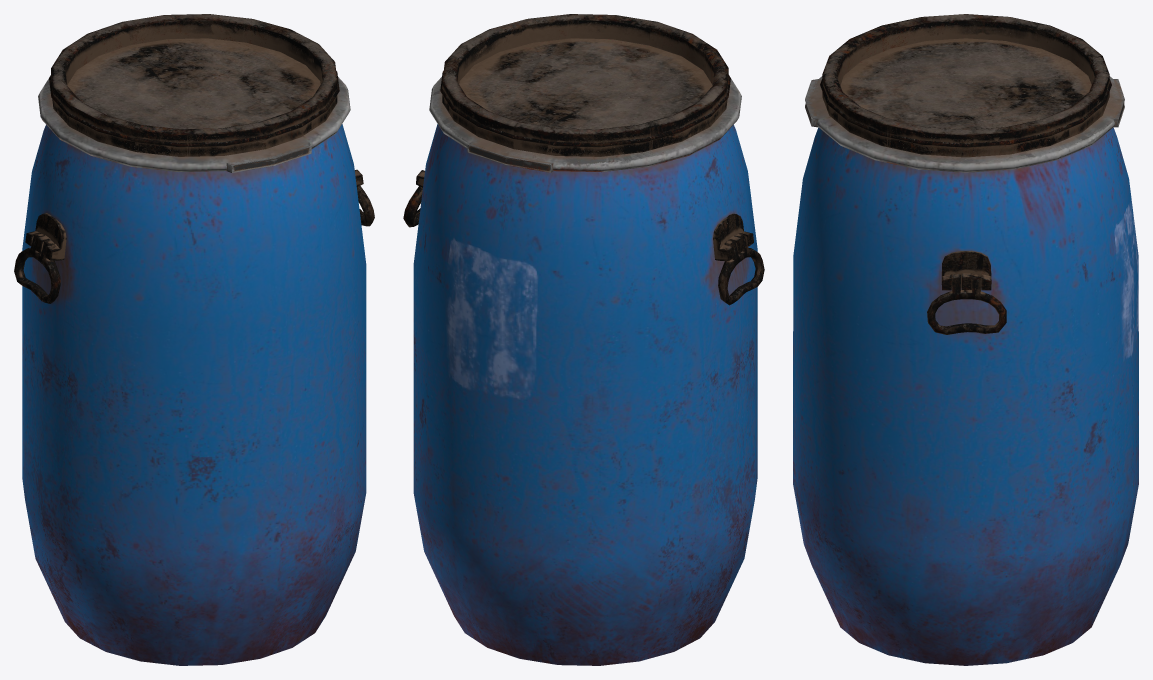
The picture shows the model from 3 angles, left to right: view 1: azimuth 30°, elevation 25°; view 2: azimuth 150°, elevation 25°; view 3: azimuth 270°, elevation 25°; orthographic projection.
Visible parts, largest first — view 1: botle_low, tap_low, ring_low, ll_low, l_low; view 2: botle_low, tap_low, ring_low, ll_low, l_low; view 3: botle_low, tap_low, ring_low, rr_low, r_low.
Part boxes in pixels (bbox=[...]): botle_low: bbox=[22, 124, 366, 665]; tap_low: bbox=[49, 14, 339, 156]; ring_low: bbox=[38, 77, 350, 172]; ll_low: bbox=[14, 233, 60, 303]; l_low: bbox=[25, 213, 66, 260]; botle_low: bbox=[413, 124, 757, 665]; tap_low: bbox=[440, 14, 730, 156]; ring_low: bbox=[429, 77, 741, 172]; ll_low: bbox=[718, 233, 764, 305]; l_low: bbox=[713, 213, 753, 260]; botle_low: bbox=[793, 127, 1138, 665]; tap_low: bbox=[820, 14, 1111, 157]; ring_low: bbox=[805, 76, 1124, 172]; rr_low: bbox=[927, 273, 1006, 334]; r_low: bbox=[941, 250, 991, 290].
Bounding box in the file's own units: 87.41 × 137 × 80.08.
1 material, 1 textured.
